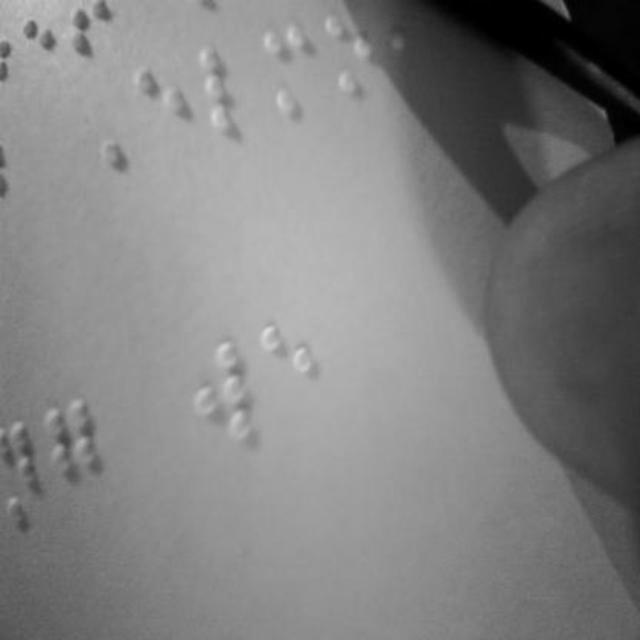braiile: (189, 341, 259, 464), (197, 27, 266, 150), (42, 389, 108, 516), (262, 312, 328, 438), (128, 51, 196, 163), (264, 14, 324, 130), (0, 398, 48, 538)
